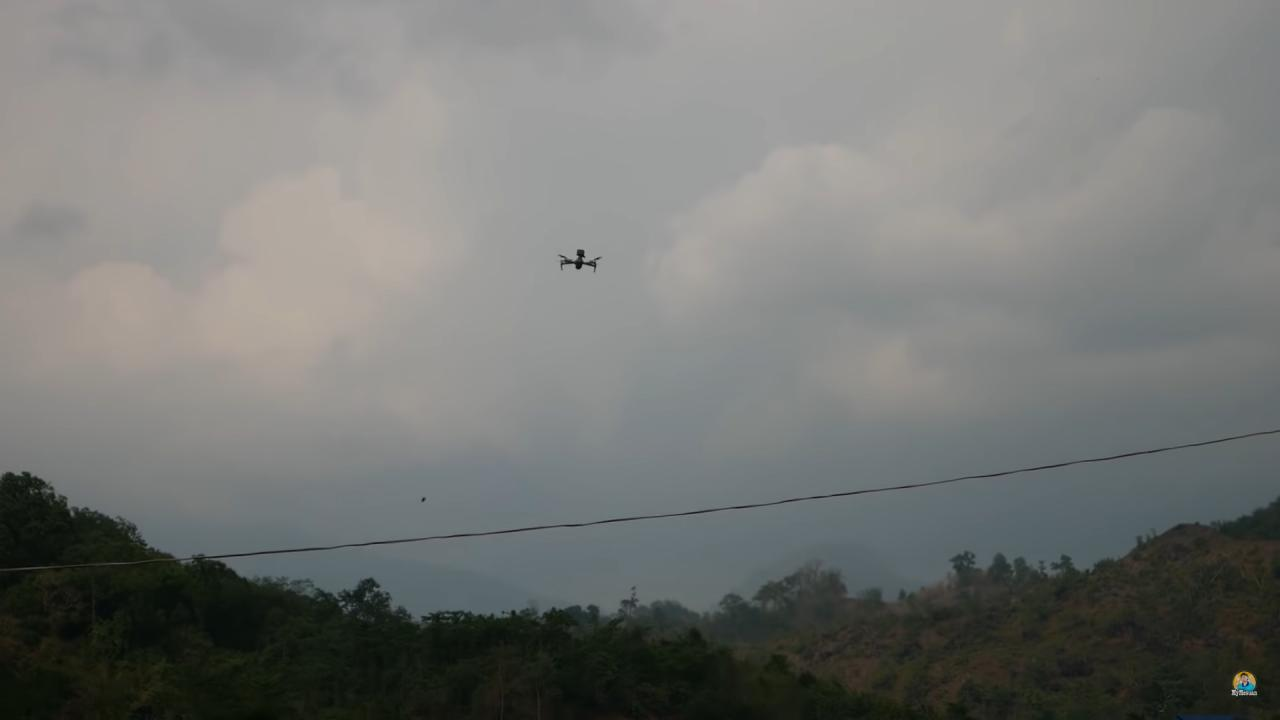Drone: (544, 236, 614, 286)
